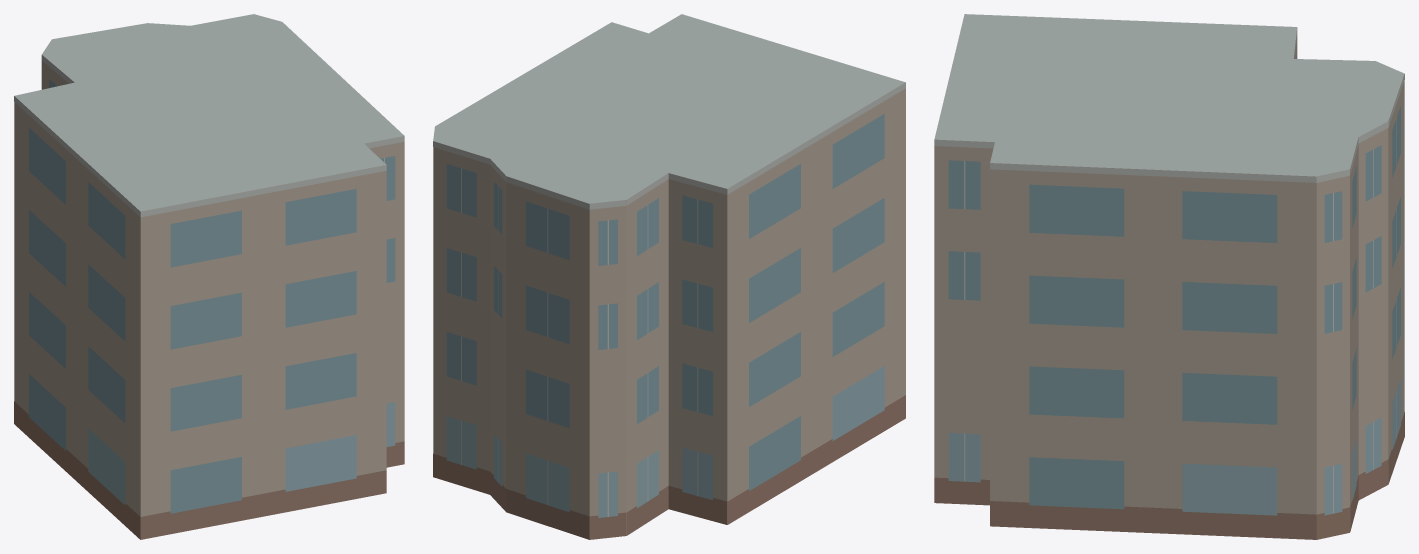
The model's file is survey-upis-33046605.glb.
The picture shows the model from 3 angles, left to right: view 1: azimuth 30°, elevation 25°; view 2: azimuth 150°, elevation 25°; view 3: azimuth 270°, elevation 25°; orthographic projection. The views are drawn at different scales.
Parts seen in each view (by area): view 1: survey-upis-33046605.tmp; view 2: survey-upis-33046605.tmp; view 3: survey-upis-33046605.tmp.
Part boxes in pixels (x1,y1,x2,y2): survey-upis-33046605.tmp: [14, 14, 404, 539]; survey-upis-33046605.tmp: [433, 14, 905, 539]; survey-upis-33046605.tmp: [934, 14, 1404, 539].
Size of the model in its own units: 13.3 by 13.85 by 16.26.
